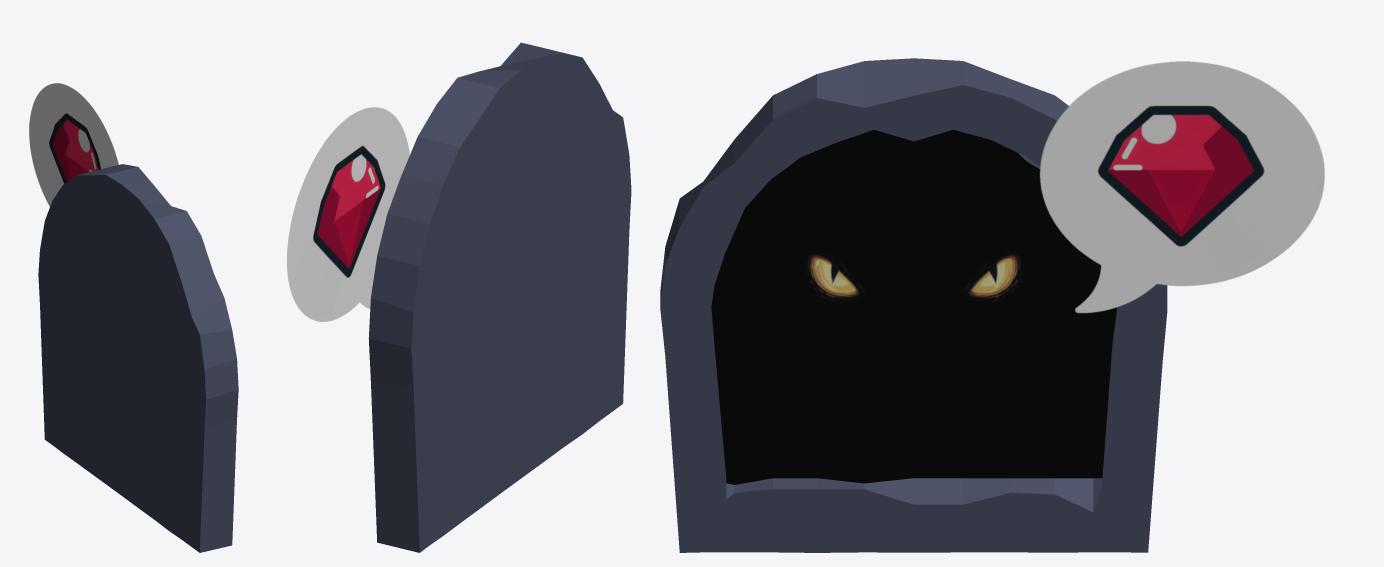
Rendered from cave.glb.
3 views of the same model, side by side, from view 1: azimuth 30°, elevation 25°; view 2: azimuth 150°, elevation 25°; view 3: azimuth 270°, elevation 25° (orthographic). The views are drawn at different scales.
Visible parts, largest first — view 1: cave.001, bubble; view 2: cave.001, bubble; view 3: cave.001, bubble, eyes.
Boxes of the visible parts, x1,y1,x2,y2 form: cave.001: [38, 164, 238, 552]; bubble: [29, 83, 118, 206]; cave.001: [368, 42, 631, 552]; bubble: [287, 107, 409, 321]; cave.001: [660, 58, 1167, 552]; bubble: [1039, 61, 1324, 313]; eyes: [805, 251, 1021, 301].
Size of the model in its own units: 0.1365 by 1.1 by 1.3.
Materials: 4 (2 with a texture image).
